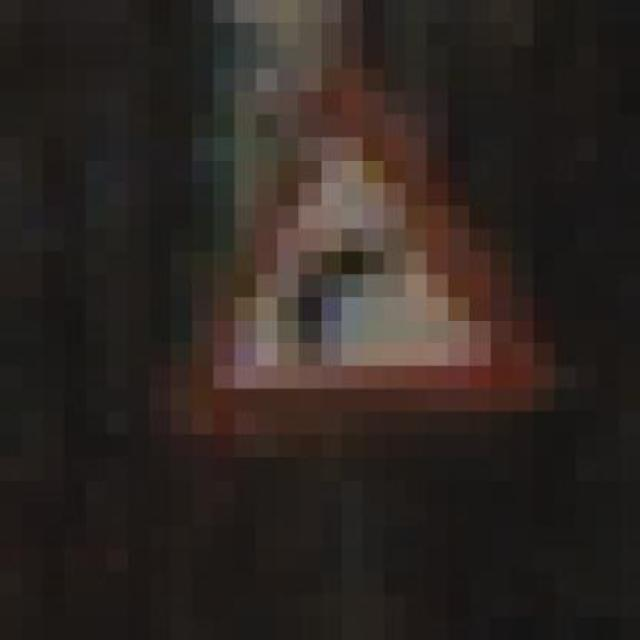Dangerous Rright Curve Ahead: (128, 69, 555, 458)
